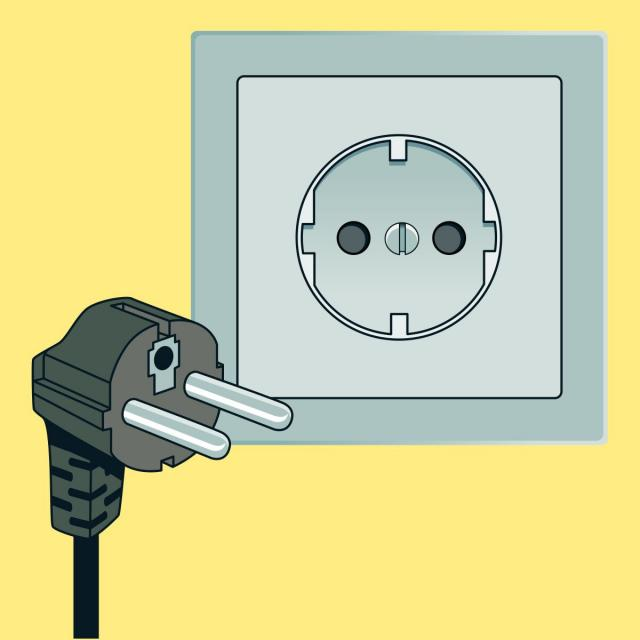typeb: (212, 53, 582, 444)
